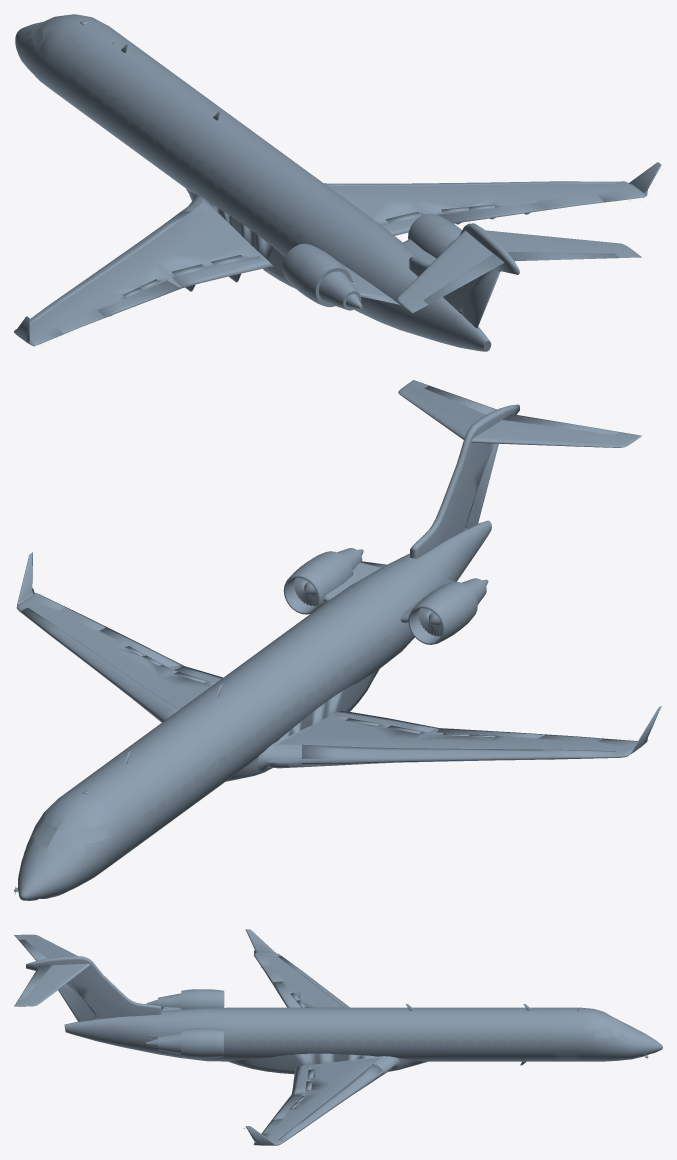
The model's file is CRJ700.glb.
3 views of the same model, one above another, from view 1: azimuth 30°, elevation 25°; view 2: azimuth 150°, elevation 25°; view 3: azimuth 270°, elevation 25° (orthographic). The views are drawn at different scales.
Size of the model in its own units: 23.29 by 6.09 by 32.46.
